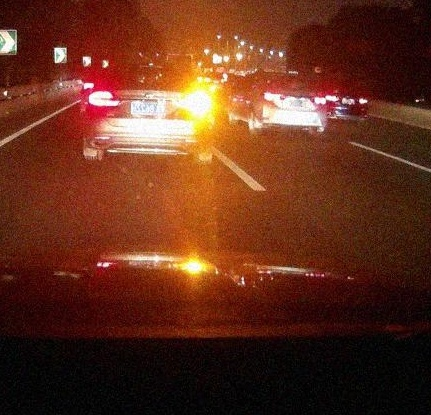L_light: (88, 91, 121, 106), (263, 93, 282, 102)
R_light: (179, 94, 208, 111), (313, 96, 326, 105)
T_light: (136, 69, 158, 74), (283, 75, 295, 80)
night-no: (260, 71, 326, 134)
night-right: (83, 65, 212, 167)
